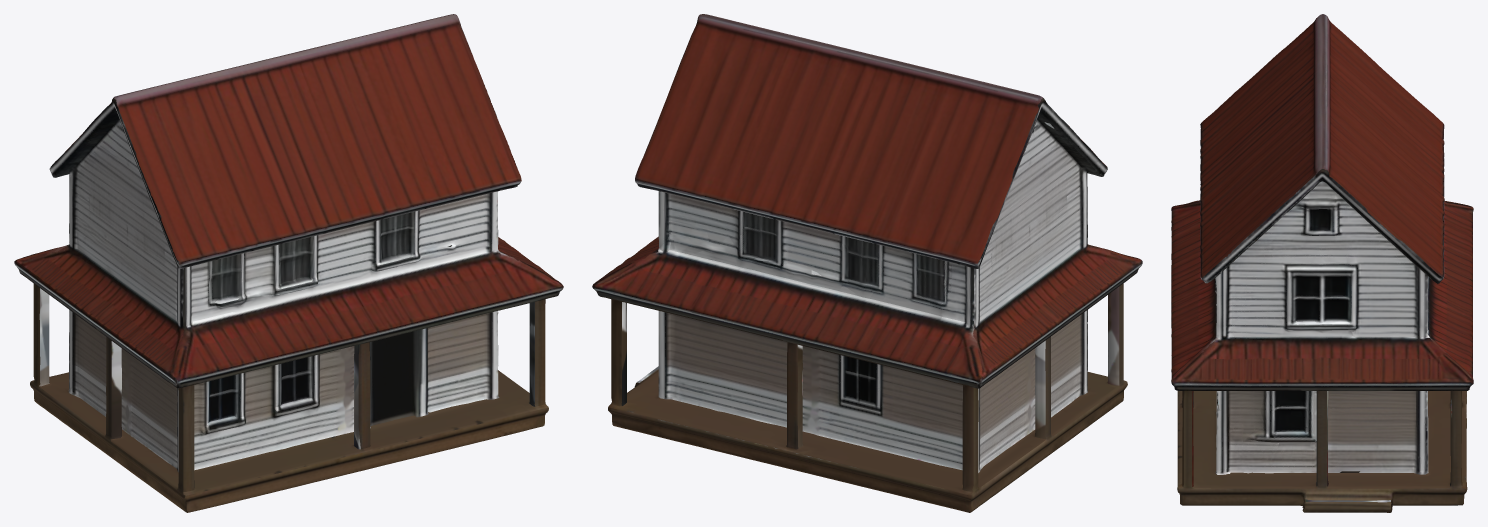
Rendered from house-farmhouse.glb.
3 renders of one model, left to right at view 1: azimuth 30°, elevation 25°; view 2: azimuth 150°, elevation 25°; view 3: azimuth 270°, elevation 25°, orthographic. The views are drawn at different scales.
Visible parts, largest first — view 1: tmp74821nul.ply; view 2: tmp74821nul.ply; view 3: tmp74821nul.ply.
Part boxes in pixels (bbox=[...]): tmp74821nul.ply: bbox=[14, 14, 563, 512]; tmp74821nul.ply: bbox=[592, 14, 1142, 512]; tmp74821nul.ply: bbox=[1171, 14, 1473, 512].
Size of the model in its own units: 1.96 by 1.73 by 1.42.
Materials: 1 (1 with a texture image).
